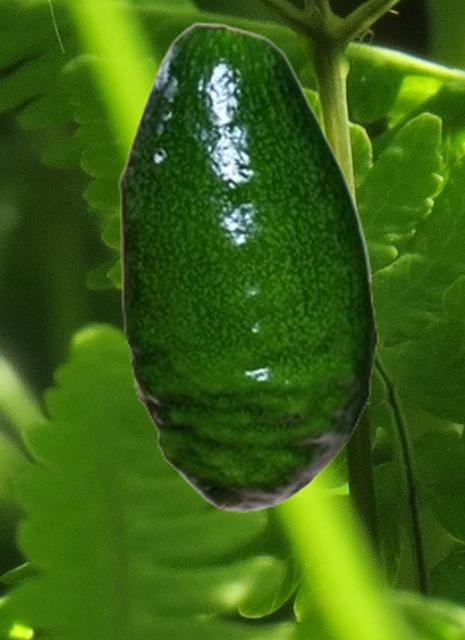avocado: (118, 21, 377, 511)
